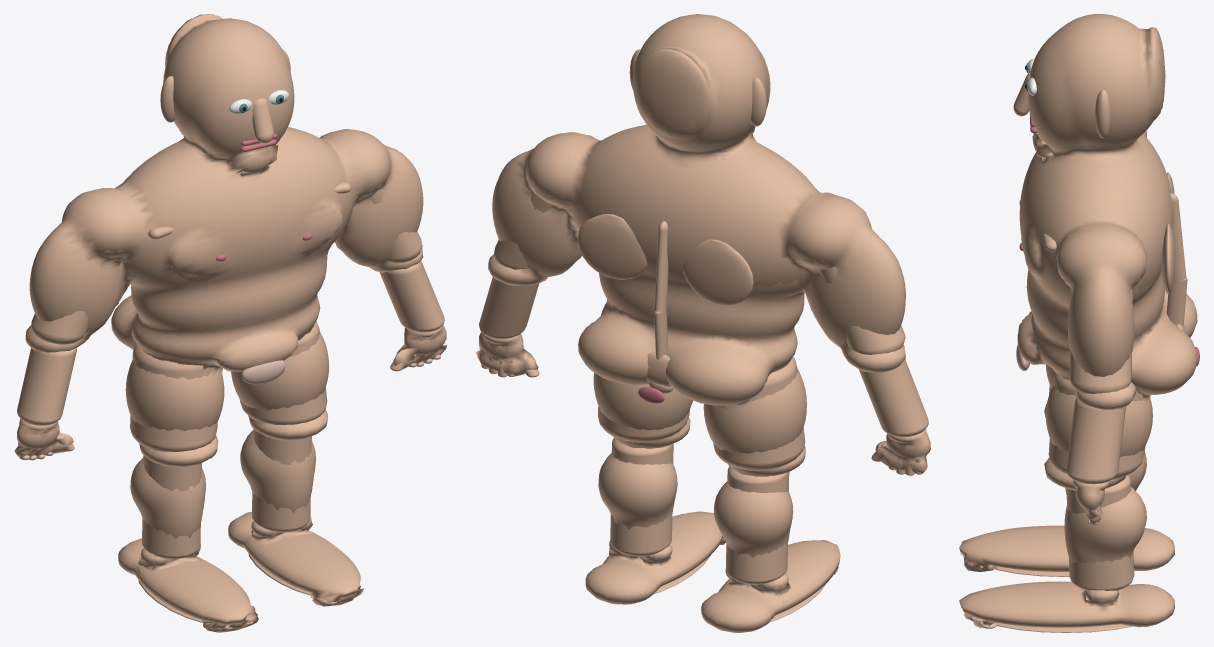
The model's file is body-baby-divers-v2.glb.
3 renders of one model, left to right at view 1: azimuth 30°, elevation 25°; view 2: azimuth 150°, elevation 25°; view 3: azimuth 270°, elevation 25°, orthographic. The views are drawn at different scales.
Visible parts, largest first — view 1: zone__visual-surface-body-baby-divers, zone__surface-forearm-left, zone__surface-thigh-left, zone__surface-forearm-right, zone__surface-lower-leg-right, zone__surface-lower-leg-left, zone__surface-thigh-right, zone__surface-upper-arm-left, zone__surface-upper-arm-right, zone__surface-nose, zone__surface-genital-observation-deferred; view 2: zone__visual-surface-body-baby-divers, zone__surface-scapula-left, zone__surface-scapula-right, zone__surface-forearm-left, zone__surface-lower-leg-right, zone__surface-lower-leg-left, zone__surface-forearm-right, zone__surface-thigh-left, zone__surface-upper-arm-left, zone__surface-thigh-right, zone__surface-thoracic-spine, zone__surface-upper-arm-right (+2 smaller); view 3: zone__visual-surface-body-baby-divers, zone__surface-forearm-right, zone__surface-lower-leg-right, zone__surface-upper-arm-right, zone__surface-thigh-right, zone__surface-thoracic-spine, zone__surface-scapula-right, zone__surface-lumbar-spine, zone__surface-sole-right, zone__surface-ear-right, zone__surface-nose, zone__surface-sole-left.
Part boxes in pixels (x1,y1,x2,y2): zone__visual-surface-body-baby-divers: (14, 14, 447, 632); zone__surface-forearm-left: (17, 348, 76, 425); zone__surface-thigh-left: (130, 344, 218, 451); zone__surface-forearm-right: (379, 261, 444, 332); zone__surface-lower-leg-right: (252, 429, 311, 532); zone__surface-lower-leg-left: (142, 455, 201, 559); zone__surface-thigh-right: (239, 321, 327, 424); zone__surface-upper-arm-left: (31, 259, 110, 344); zone__surface-upper-arm-right: (368, 189, 422, 263); zone__surface-nose: (252, 98, 274, 143); zone__surface-genital-observation-deferred: (241, 360, 285, 384); zone__visual-surface-body-baby-divers: (476, 14, 930, 632); zone__surface-scapula-left: (683, 239, 753, 305); zone__surface-scapula-right: (577, 214, 647, 279); zone__surface-forearm-left: (859, 359, 928, 437); zone__surface-lower-leg-right: (610, 438, 673, 556); zone__surface-lower-leg-left: (726, 466, 789, 584); zone__surface-forearm-right: (479, 277, 539, 339); zone__surface-thigh-left: (713, 357, 805, 470); zone__surface-upper-arm-left: (817, 266, 905, 354); zone__surface-thigh-right: (598, 406, 689, 442); zone__surface-thoracic-spine: (654, 221, 668, 315); zone__surface-upper-arm-right: (493, 193, 552, 269); zone__visual-surface-body-baby-divers: (959, 14, 1197, 628); zone__surface-forearm-right: (1066, 397, 1126, 484); zone__surface-lower-leg-right: (1066, 475, 1134, 590); zone__surface-upper-arm-right: (1069, 288, 1132, 393); zone__surface-thigh-right: (1048, 372, 1145, 479); zone__surface-thoracic-spine: (1170, 193, 1186, 284); zone__surface-scapula-right: (1161, 223, 1175, 293); zone__surface-lumbar-spine: (1166, 277, 1187, 325); zone__surface-sole-right: (995, 622, 1132, 632); zone__surface-ear-right: (1095, 89, 1111, 138); zone__surface-nose: (1013, 71, 1030, 116); zone__surface-sole-left: (995, 566, 1069, 576).
Size of the model in its own units: 0.558 by 0.6845 by 0.2598.
